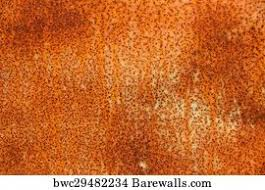rust: (1, 1, 264, 175)
